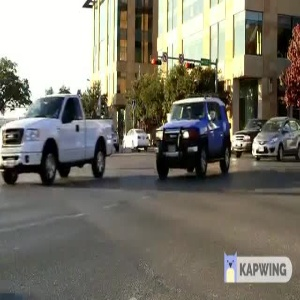car: (250, 115, 300, 161)
suv: (149, 91, 232, 177)
truck: (1, 90, 117, 178)
